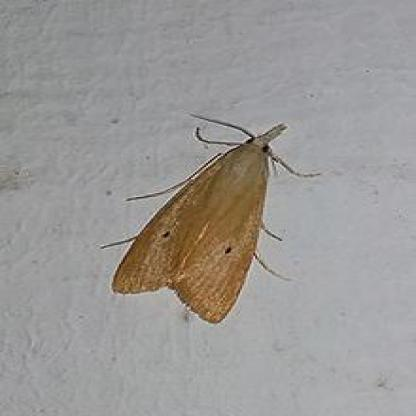stem-borer: (100, 109, 311, 328)
